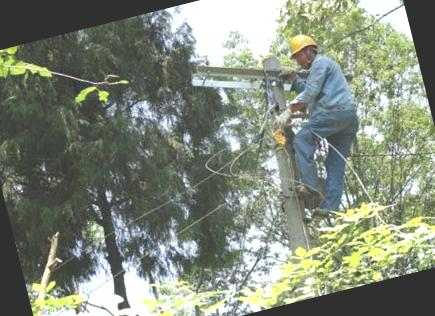person: (257, 22, 383, 224)
